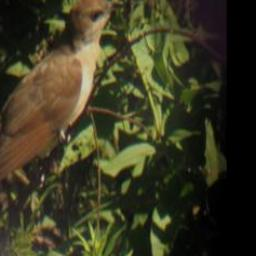Cuckoo: (0, 0, 125, 236)
